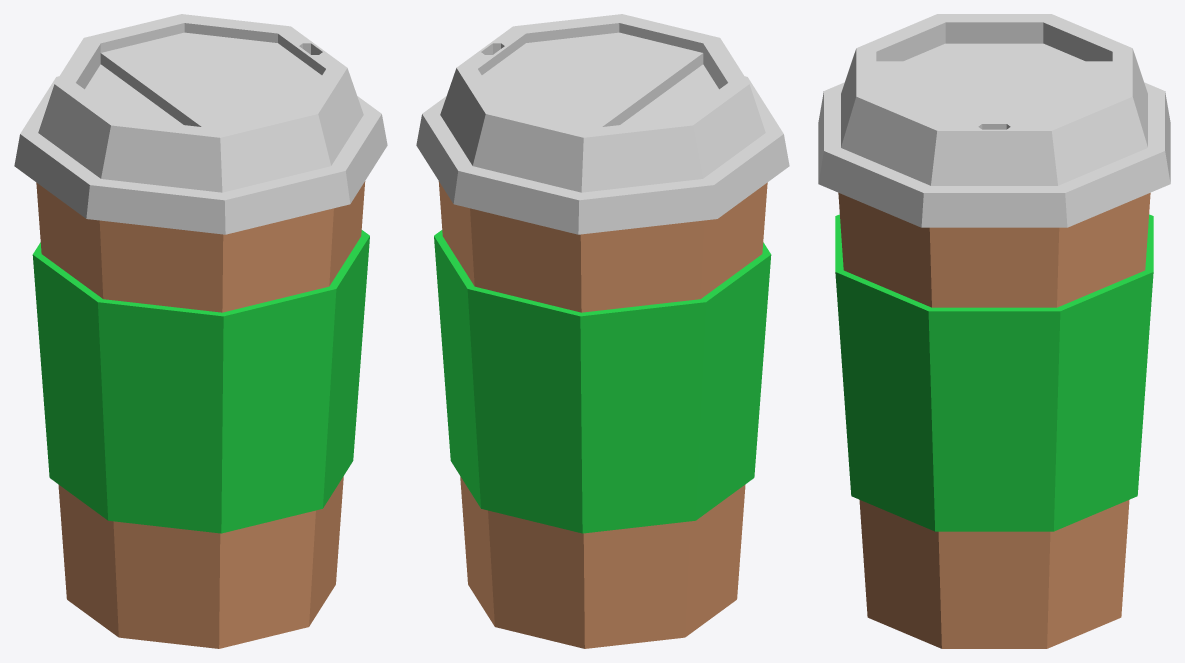
File: coffe_cup.fbx
3 views of the same model, side by side, from view 1: azimuth 30°, elevation 25°; view 2: azimuth 150°, elevation 25°; view 3: azimuth 270°, elevation 25° (orthographic).
Parts seen in each view (by area): view 1: Lid; view 2: Lid; view 3: Lid.
Boxes of the visible parts, x1=… form: Lid: x1=14, y1=14, x2=387, y2=648; Lid: x1=416, y1=14, x2=789, y2=648; Lid: x1=818, y1=14, x2=1170, y2=648.
Size of the model in its own units: 66.25 by 108 by 66.25.
